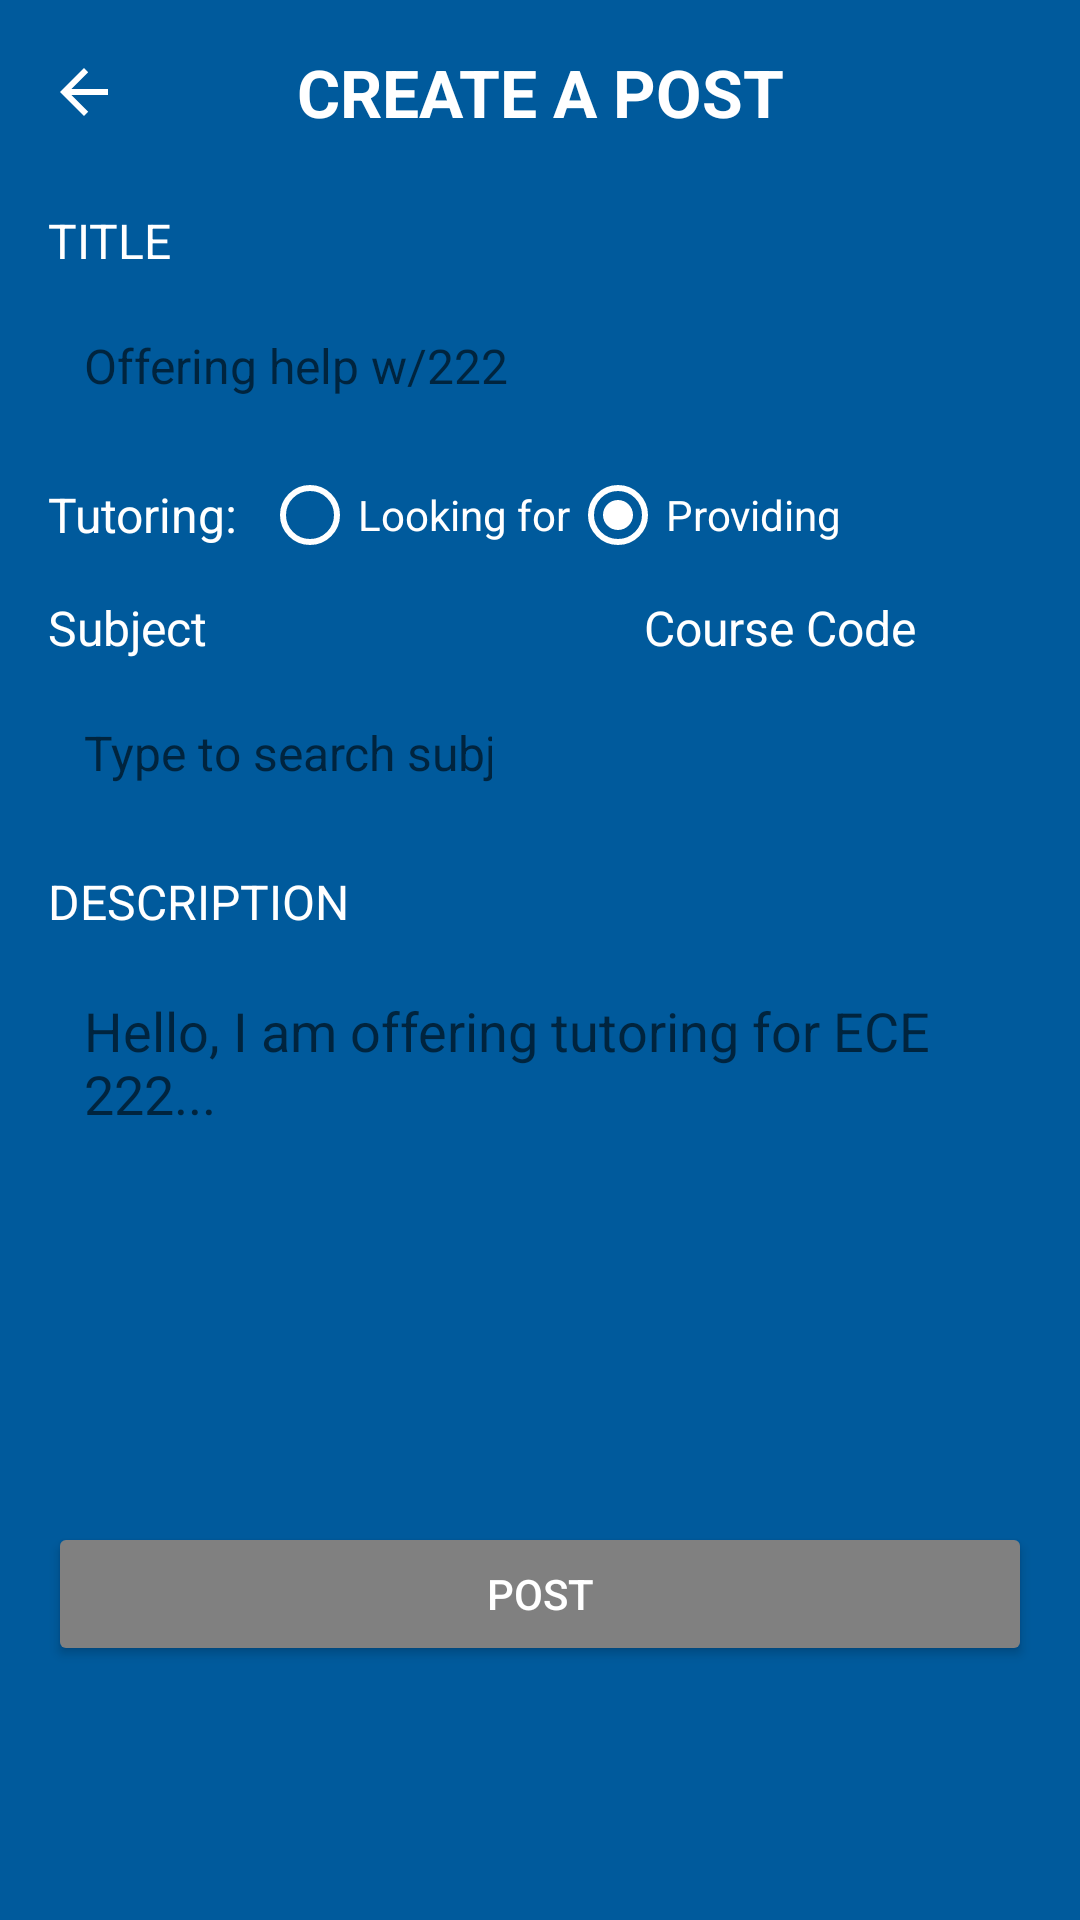

Where icons sit on this 1080 x 1920 app screen, as (x1, y1, x2, y2):
Go back: (60, 68, 108, 116)
